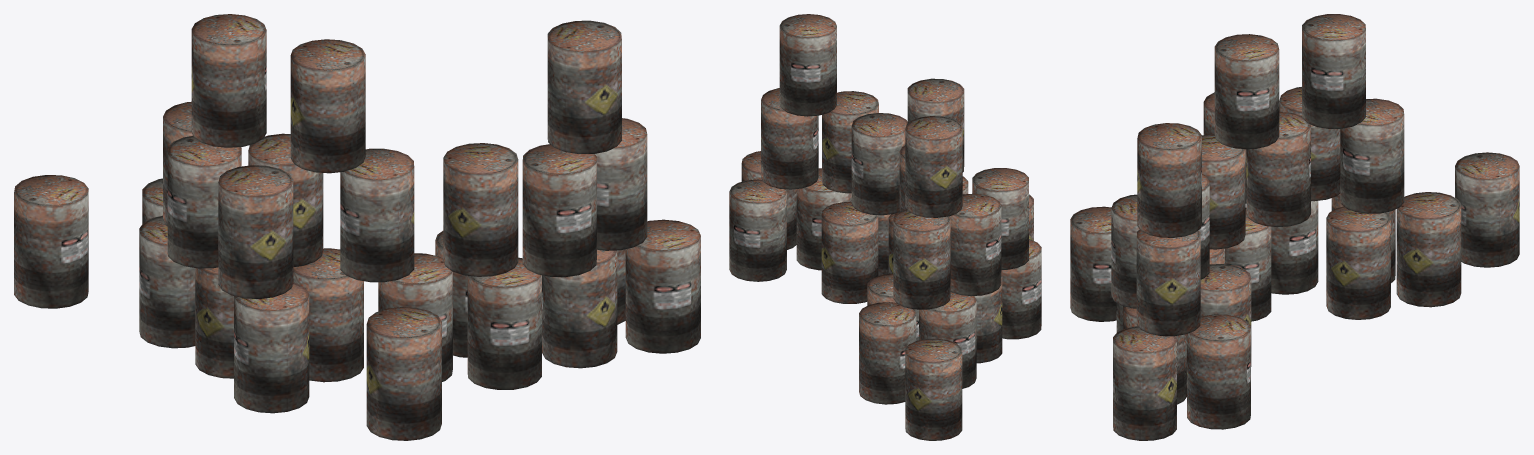
Rendered from oildrum_set.fbx.
The picture shows the model from 3 angles, left to right: view 1: azimuth 30°, elevation 25°; view 2: azimuth 150°, elevation 25°; view 3: azimuth 270°, elevation 25°; orthographic projection. The views are drawn at different scales.
Visible parts, largest first — view 1: OilDrum; view 2: OilDrum; view 3: OilDrum.
Part boxes in pixels (bbox=[...]): OilDrum: bbox=[14, 14, 700, 440]; OilDrum: bbox=[729, 14, 1041, 440]; OilDrum: bbox=[1070, 14, 1519, 440].
Size of the model in its own units: 6.42 by 3.94 by 6.08.
Materials: 1 (1 with a texture image).
